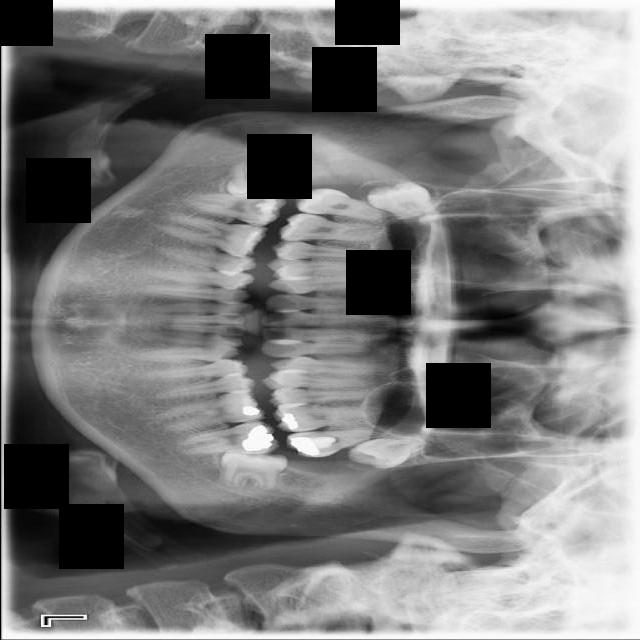3M ESPE Implant: (362, 169, 445, 231)
52: (218, 381, 265, 432), (232, 413, 280, 461), (235, 187, 286, 231), (271, 399, 326, 436), (284, 431, 344, 459)
73: (48, 590, 58, 594)
BioHorizons Implant: (283, 423, 404, 461)
BioLife Implant: (345, 432, 434, 474)
Biomet 3i Implant: (218, 446, 289, 492)
Blue Sky Bio Implant: (177, 419, 280, 457)
Caries: (292, 183, 411, 229)
Implant: (181, 187, 286, 228)
Keystone Dental Implant: (225, 160, 295, 199)
